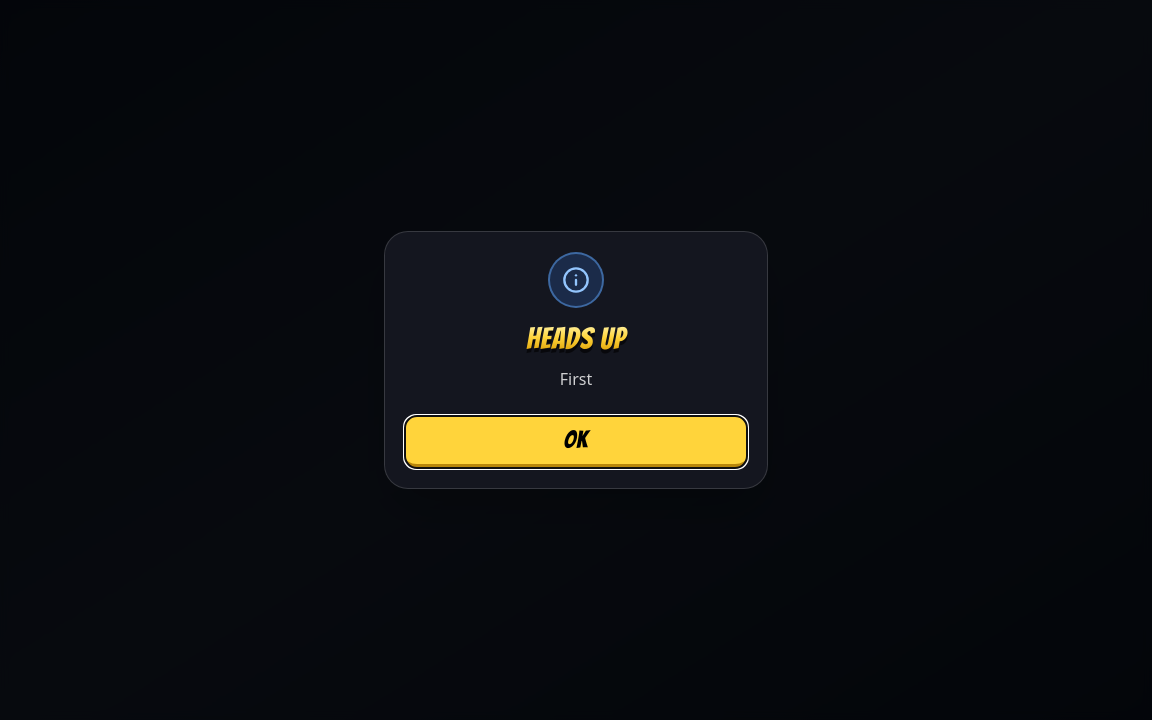
Test: in-app dialogs › shows queued dialogs one after the other
The image size is (1152, 720).
Later steps or results of the test are not shown.
Expected: the text "First" is shown, [560, 368, 592, 390]
Expected: the text "Second" is not shown
Click the button "OK" at (576, 442), box [405, 416, 747, 468]
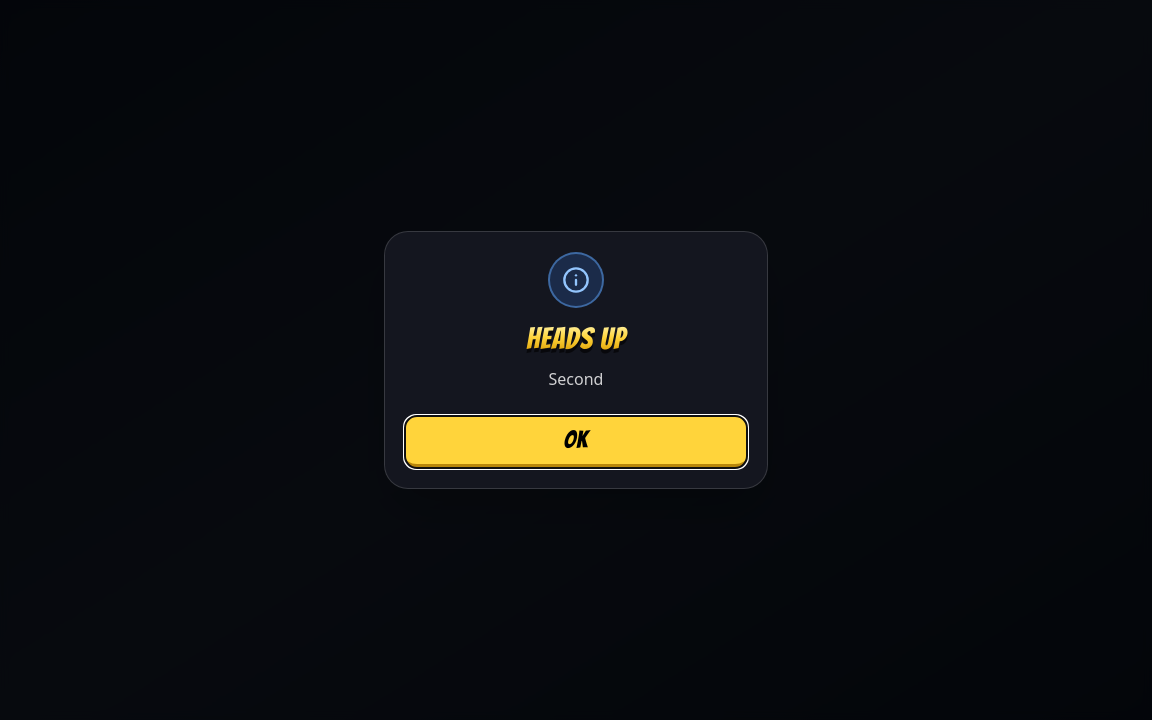
Now the text "Second" is shown, box [548, 368, 603, 390]
